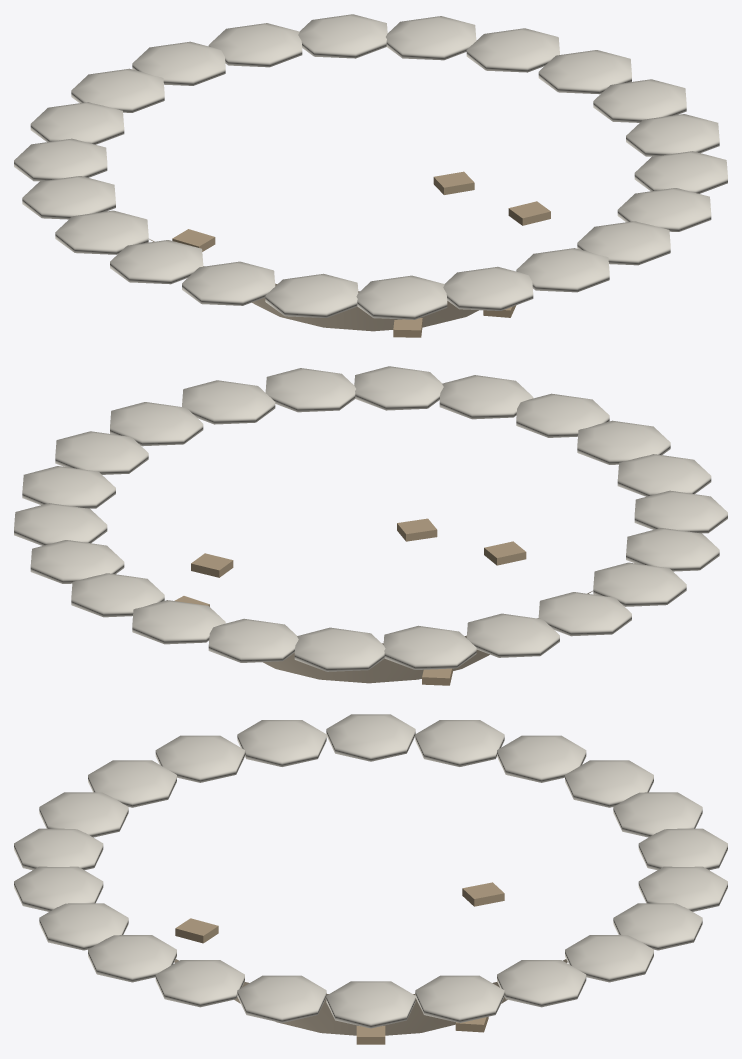
The model's file is trench-line-1917-shell-crater-large-32e03ba5__24079.glb.
The picture shows the model from 3 angles, top to bottom: view 1: azimuth 30°, elevation 25°; view 2: azimuth 150°, elevation 25°; view 3: azimuth 270°, elevation 25°; orthographic projection.
Visible parts, largest first — view 1: shell-crater-large; view 2: shell-crater-large; view 3: shell-crater-large.
Part boxes in pixels (x1,y1,x2,y2): shell-crater-large: [14, 14, 727, 337]; shell-crater-large: [14, 366, 727, 685]; shell-crater-large: [14, 714, 727, 1044].
Bounding box in the file's own units: 8.71 × 2.02 × 8.54.
